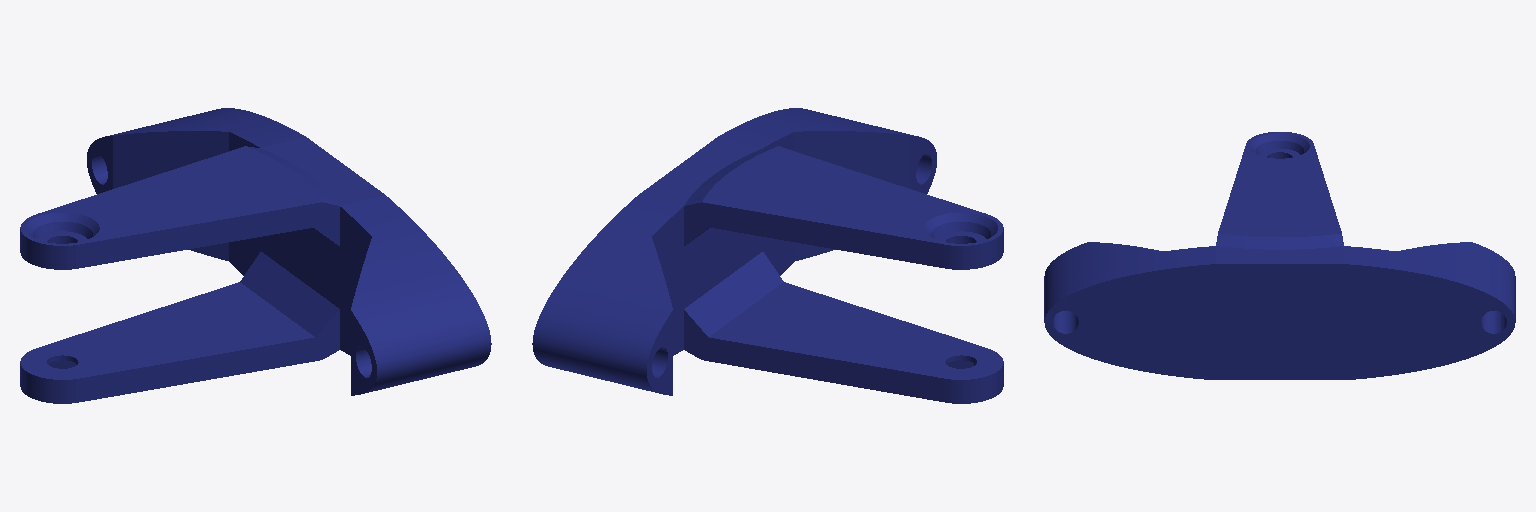
The robot description file, URDF, robot "cube.urdf":
<?xml version="1.0" ?>
<robot name="cube.urdf">
    <link name="legobrick">
        <contact>
            <lateral_friction value="1.0"/>
            <rolling_friction value="0.0"/>
            <contact_cfm value="0.0"/>
            <contact_erp value="1.0"/>
        </contact>
        <inertial>
            <origin rpy="0 0 0" xyz="0.0 0.0 0.0"/>
            <mass value="0.1"/>
            <inertia ixx="1" ixy="0" ixz="0" iyy="1" iyz="0" izz="1"/>
        </inertial>
        <visual>
            <origin rpy="1.570796 0 0" xyz="-0.001152925257731959 0.014222730670103094 -0.006989078608247398"/>
            <geometry>
                <mesh filename="Wheel_Base.obj" scale="0.001 0.001 0.001"/>
            </geometry>
            <material name="yellow">
                <color rgba="0.2118 0.2431 0.5569 1"/>
            </material>
        </visual>
        <collision>
            <origin rpy="1.570796 0 0" xyz="-0.001152925257731959 0.014222730670103094 -0.006989078608247398"/>
            <geometry>
                <mesh filename="Wheel_Base.obj" scale="0.001 0.001 0.001"/>
            </geometry>
        </collision>
    </link>
</robot>

--- What the picture shows (computed from the rendered views, not written in the file) ---
Views: 3 orthographic renders of the robot side by side, from view 1: azimuth 30°, elevation 25°; view 2: azimuth 150°, elevation 25°; view 3: azimuth 270°, elevation 25°.
Model cube.urdf with 1 links and 0 joints (none), rooted at legobrick, posed every joint at zero.
Links seen in each view (by area): view 1: legobrick; view 2: legobrick; view 3: legobrick.
Boxes of the visible links, x1,y1,x2,y2 form: legobrick: [20, 108, 491, 403]; legobrick: [532, 108, 1003, 403]; legobrick: [1044, 132, 1515, 379].
Bounding box of the posed robot: 0.07 × 0.11 × 0.033 m (x, y, z).
Meshes: 1 distinct files referenced, 1 mesh visuals loaded (1 OBJ).